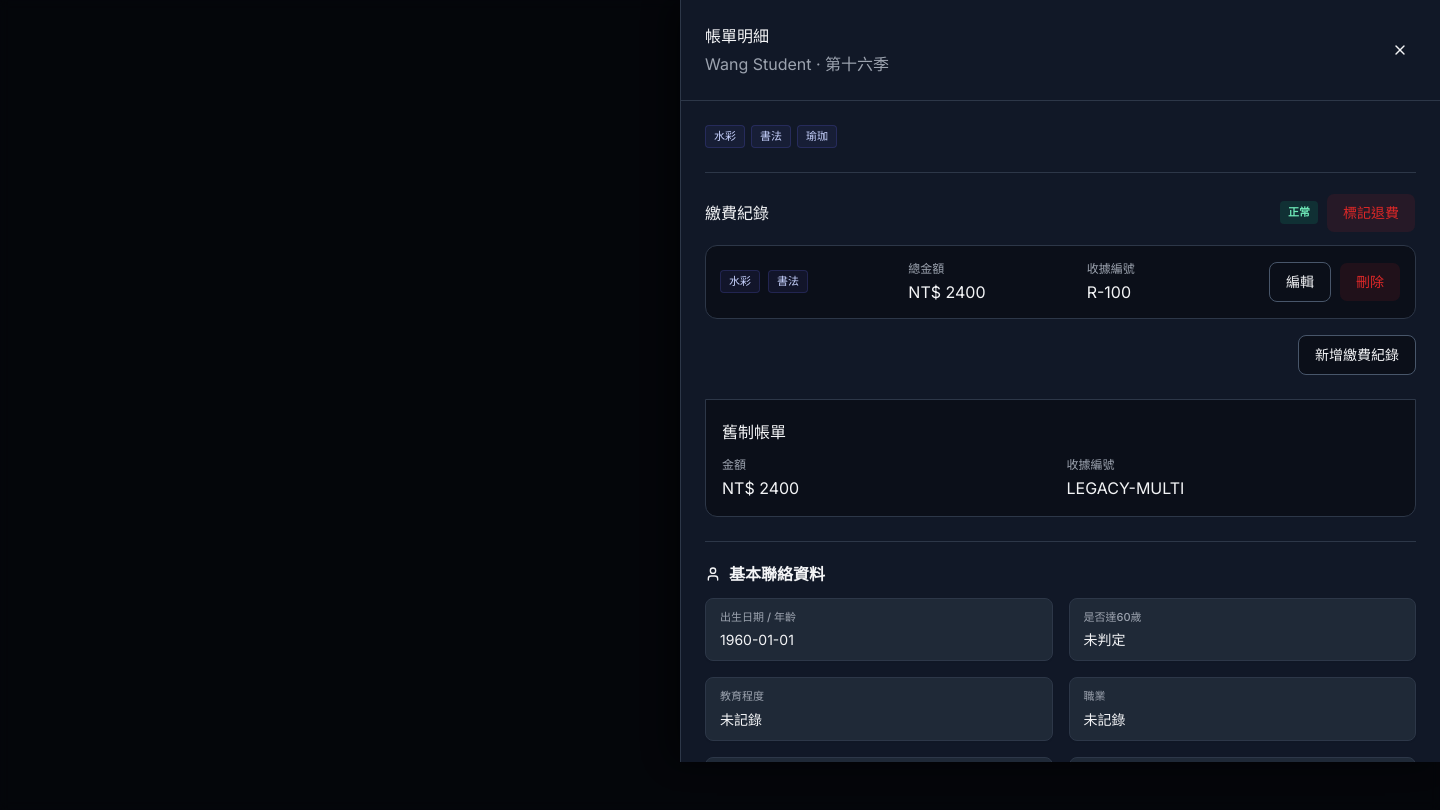
Test: EnrollmentBillingDetailModal › offers only courses without a grouped payment
Click the button "新增繳費紀錄": {"x": 1357, "y": 354} top-left (1298, 334), bottom-right (1416, 374)
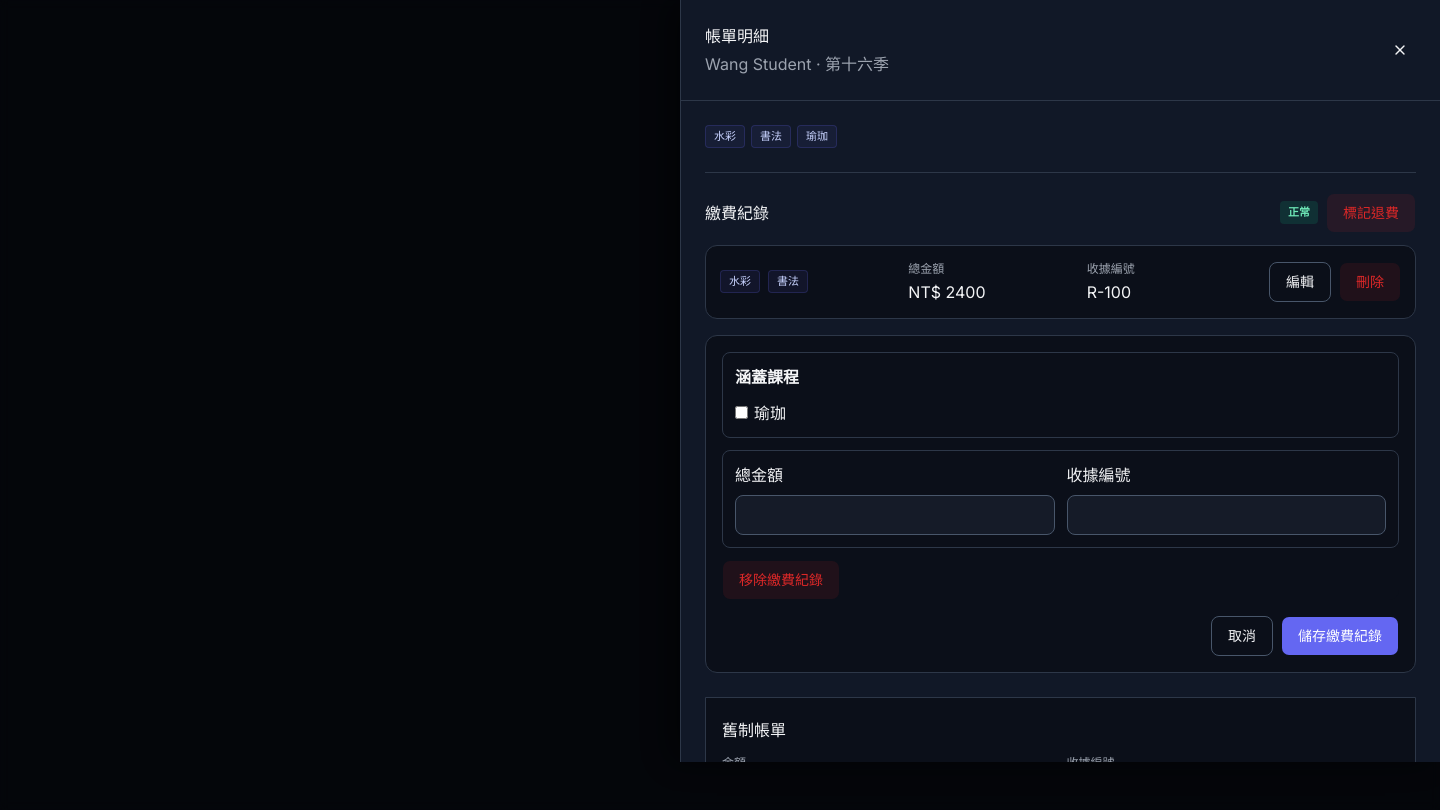
Now the checkbox labelled "瑜珈" is shown, box top-left (735, 406), bottom-right (748, 419)
